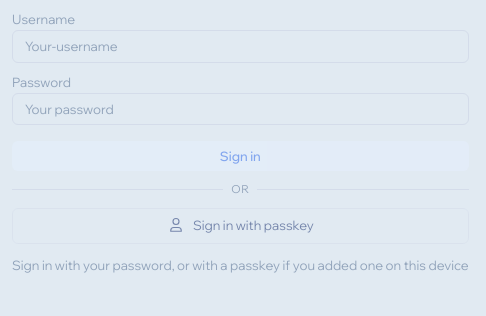
Scenario: LoginForm › показывает ошибку неверного пароля
Type "alice" into the field labelled "Username" at (240,46), box [12,30,469,63]
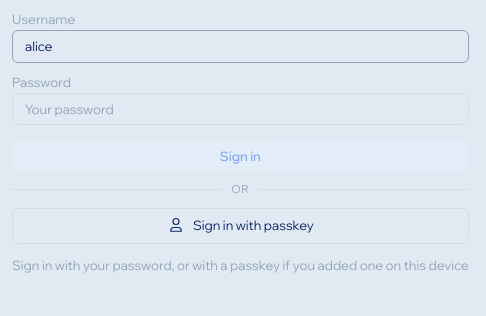
Type "wrong" into the password field with placeholder "Your password" at (240,109), box [12,93,469,125]
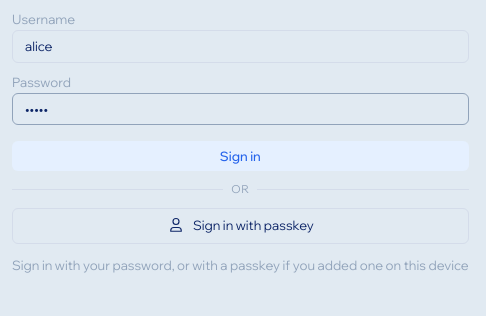
Click the button "Sign in" at (240,156), box [12,141,469,172]
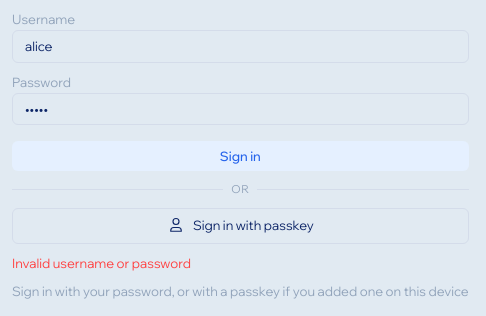
Expected: the text "Invalid username or password" is shown, [12,255,191,271]
